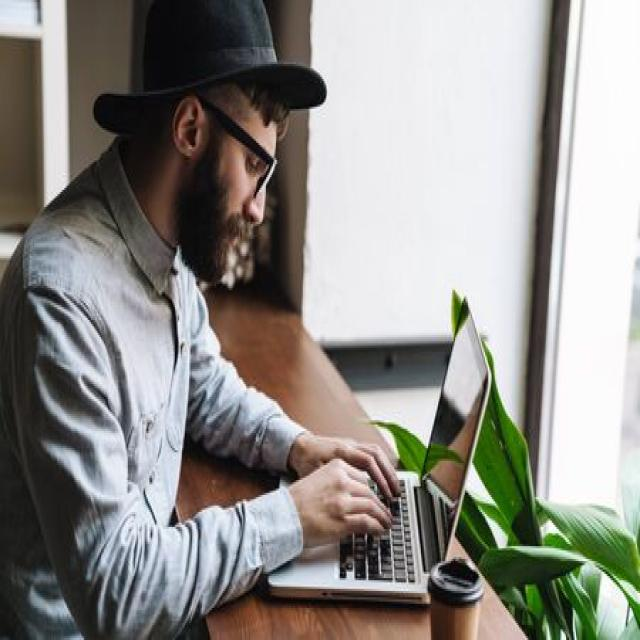notebook-person: (0, 2, 507, 640)
